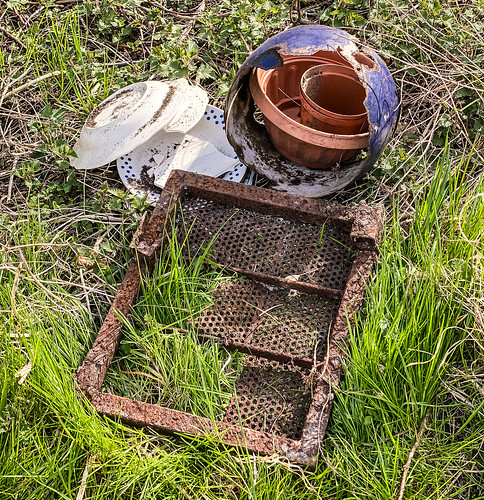trash: (55, 22, 432, 480)
vegetation: (1, 1, 481, 496)
